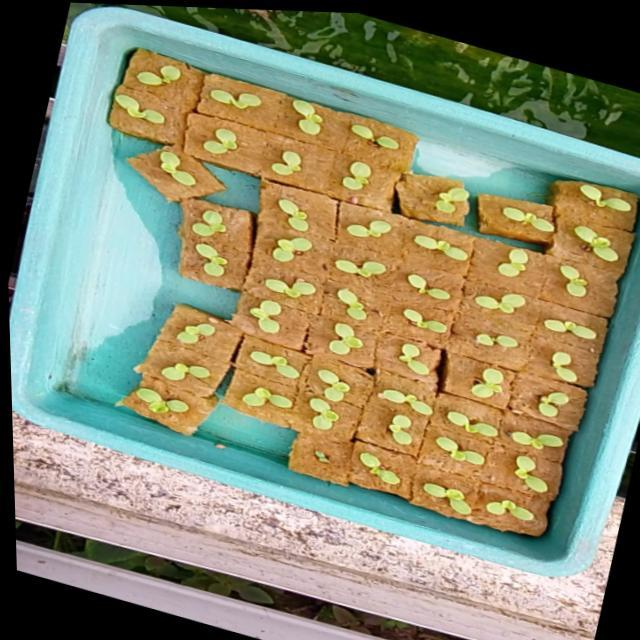Baby: (556, 256, 613, 302), (135, 59, 201, 96), (166, 149, 217, 196), (145, 89, 197, 129), (479, 332, 540, 363), (407, 344, 455, 381), (275, 271, 325, 306), (524, 434, 585, 462), (263, 351, 318, 382), (439, 489, 489, 521), (210, 85, 271, 111), (554, 395, 595, 433), (393, 393, 449, 420), (267, 237, 323, 263), (149, 388, 202, 415), (374, 457, 417, 490), (463, 415, 516, 441), (419, 274, 466, 303), (202, 201, 236, 238), (532, 460, 565, 498), (416, 310, 460, 336), (344, 324, 378, 357), (263, 301, 295, 336), (303, 100, 334, 136), (559, 320, 612, 341), (332, 372, 365, 405), (486, 372, 521, 403), (502, 504, 551, 526), (289, 198, 319, 233), (488, 295, 540, 315), (255, 393, 303, 414), (349, 290, 380, 322), (324, 399, 354, 432), (347, 261, 399, 279), (217, 130, 251, 156), (175, 363, 224, 381), (461, 448, 501, 470), (354, 162, 384, 191), (512, 250, 543, 278), (207, 251, 239, 278), (566, 355, 592, 387), (190, 324, 229, 345), (283, 151, 313, 176), (405, 419, 428, 450), (367, 221, 401, 238)
